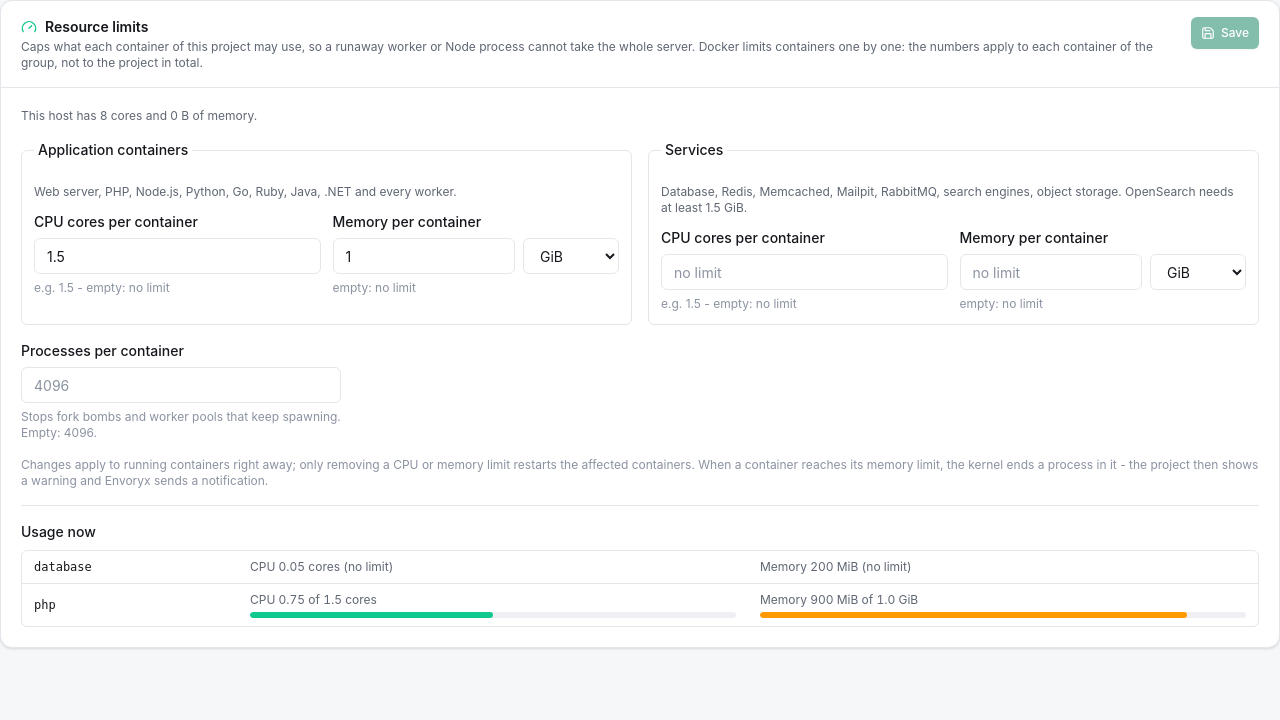
Test: LimitsCard › shows the limits, saves changes and the usage against them
expect the text "This host has 8 cores and 0 B of memory." is shown: met, box [21,108,257,123]
expect the field labelled "CPU cores per container" below "Application containers" holds "1.5": met, box [34,238,320,274]
Type "512" into the field labelled "Memory per container" below "Services".
click(1051, 272); type("512")  # box [960,254,1142,290]
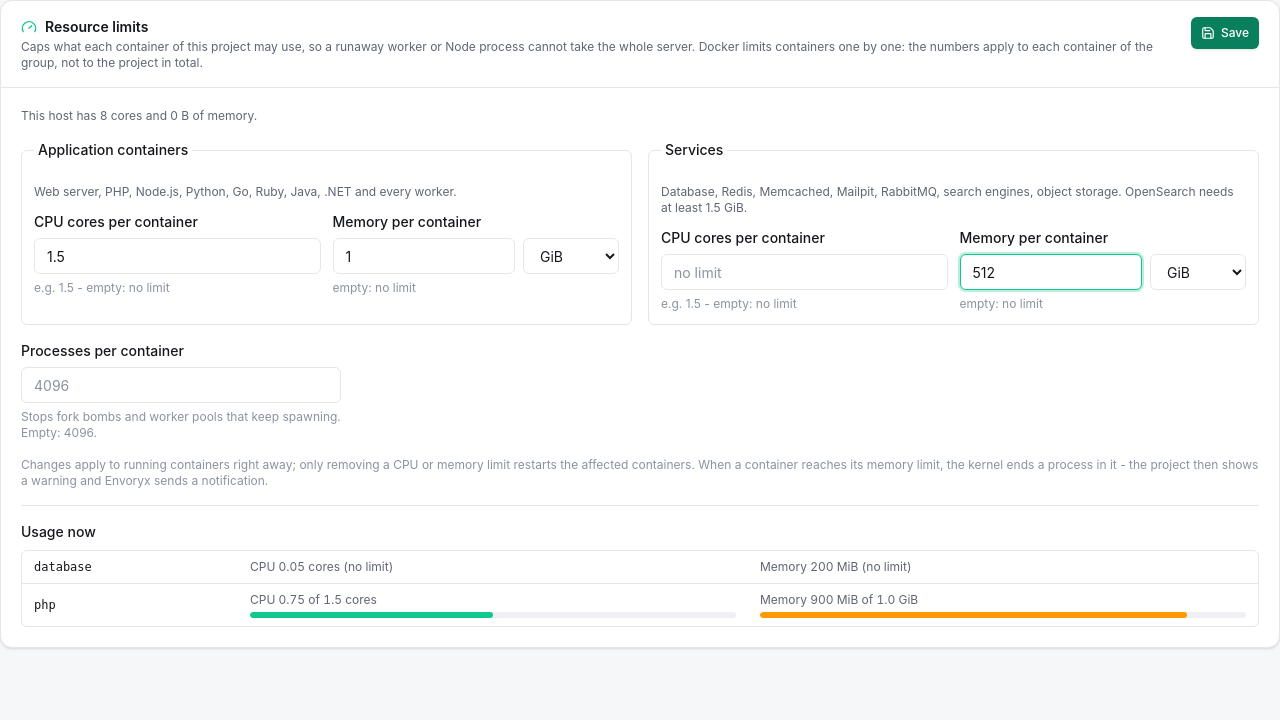
Select "MiB" in the 2nd dropdown named "Unit" at [1198, 272], box [1150,254,1246,290]
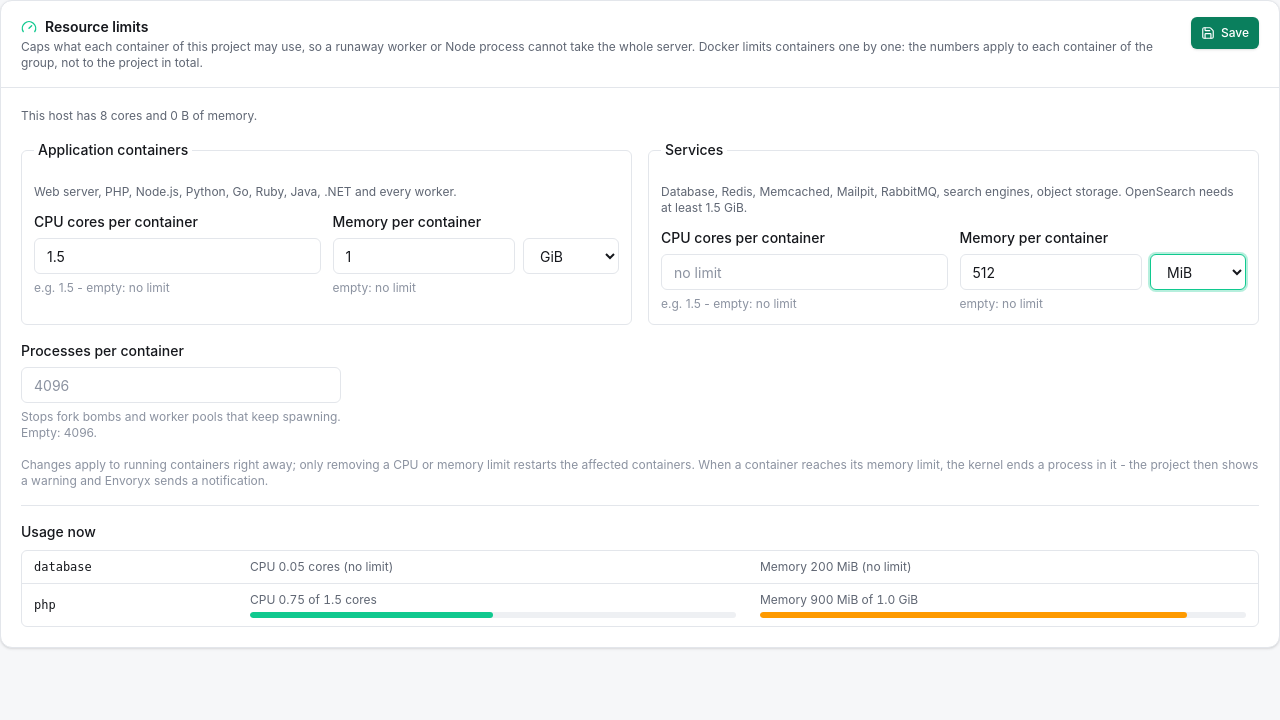
Type "2048" into the field labelled "Processes per container".
click(181, 385); type("2048")  # box [21,367,341,403]
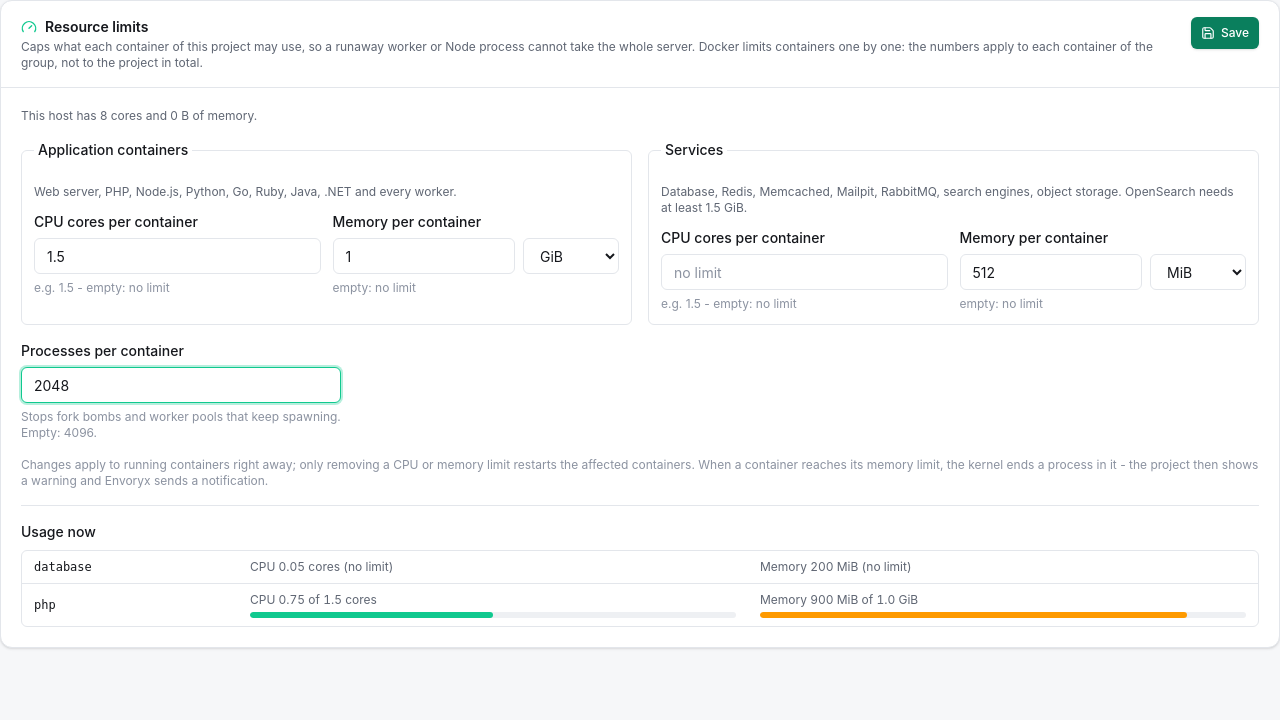
Click the button "Save".
click(1225, 33)  # box [1191,17,1259,49]
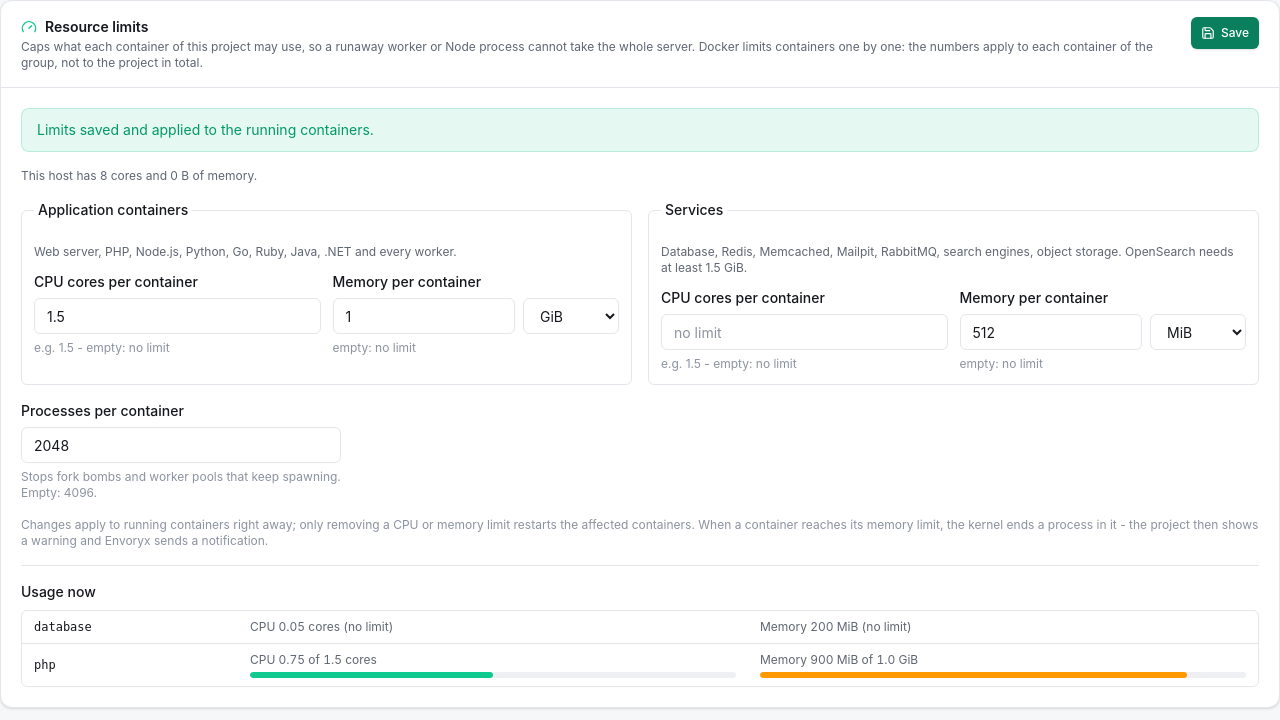
expect the text "Limits saved and applied to the running containers." is shown: met, box [37,121,374,138]
